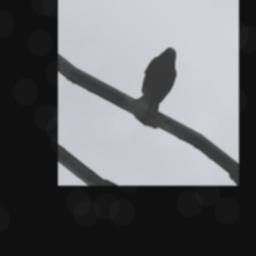Crow: (124, 38, 189, 133)
